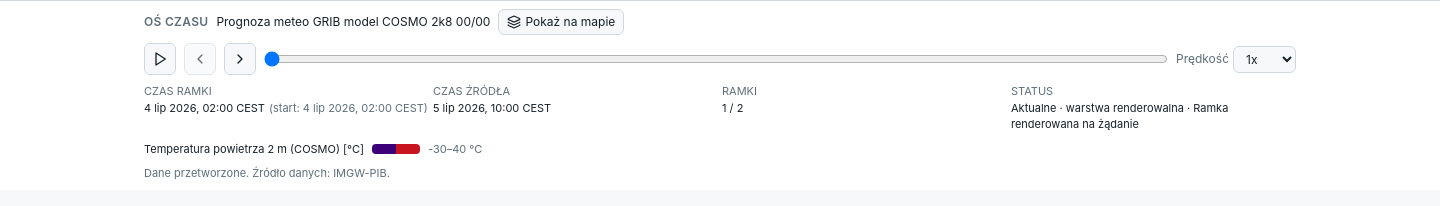
Test: TimelineBar › offers the map overlay toggle and legend for a renderable layer
The image size is (1440, 206).
expect the text "warstwa renderowalna" is shown: met, box [1066,100,1184,114]
expect the text "Temperatura powietrza 2 m (COSMO) [°C]" is shown: met, box [144,140,364,157]
Click the button with aria-label "Pokaż warstwę na mapie". click: point(561, 22)
box: [498,9,624,35]
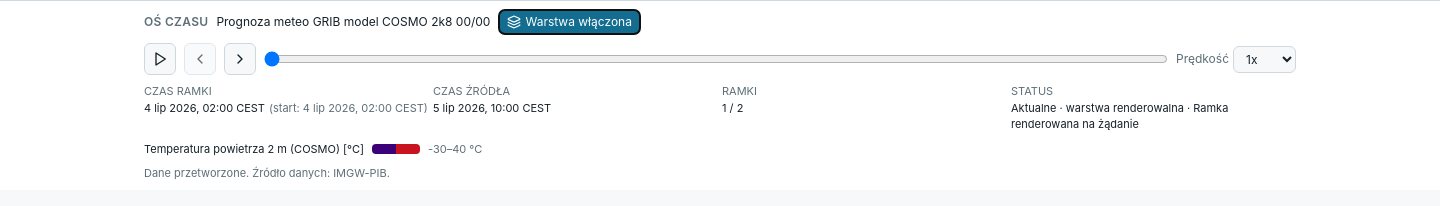
expect the button with aria-label "Ukryj warstwę z mapy" is shown: met, box [498,9,641,35]
